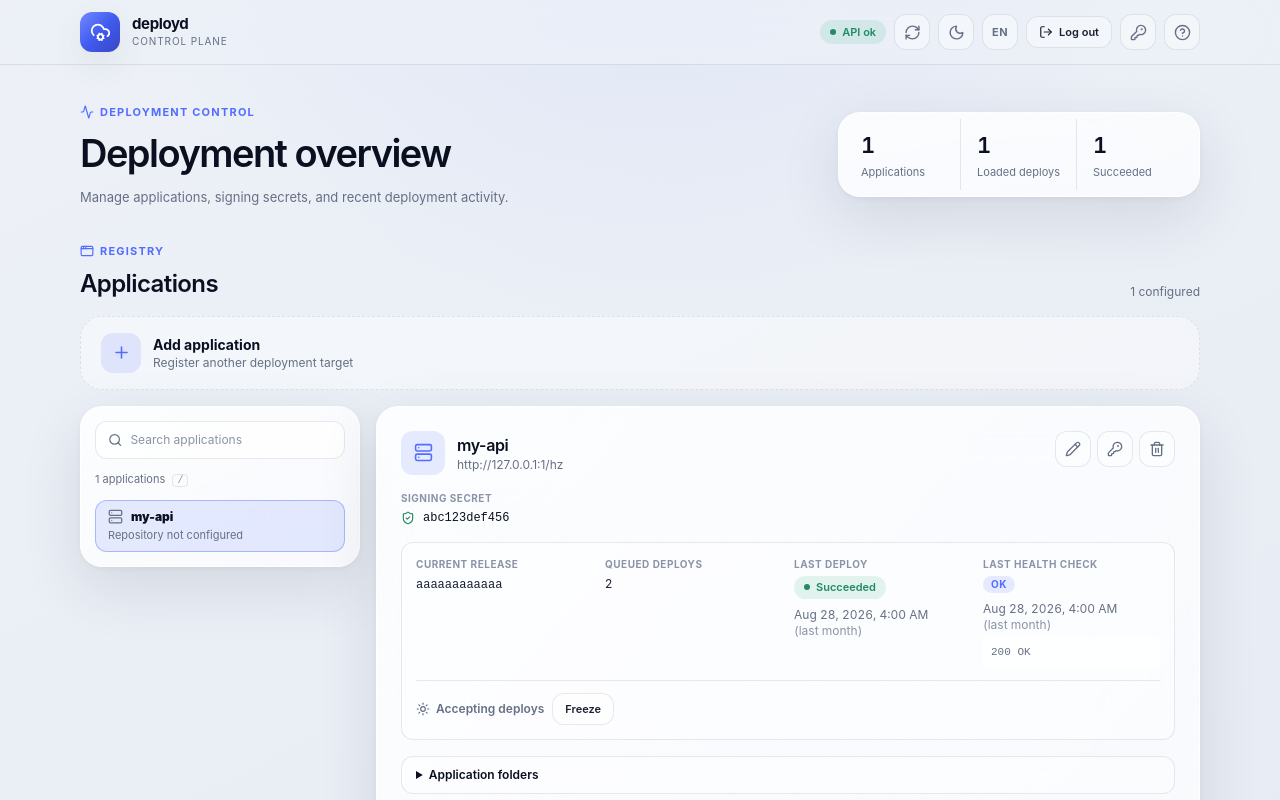
Scenario: App › shows the per-app status panel and freezes after confirmation
expect the text "aaaaaaaaaaaa" is shown: met, box x1=416 y1=578 x2=502 y2=592
expect the text "2" is shown: met, box x1=605 y1=576 x2=612 y2=591
Click the button "Freeze" at {"x": 583, "y": 709}, box x1=552 y1=693 x2=614 y2=725
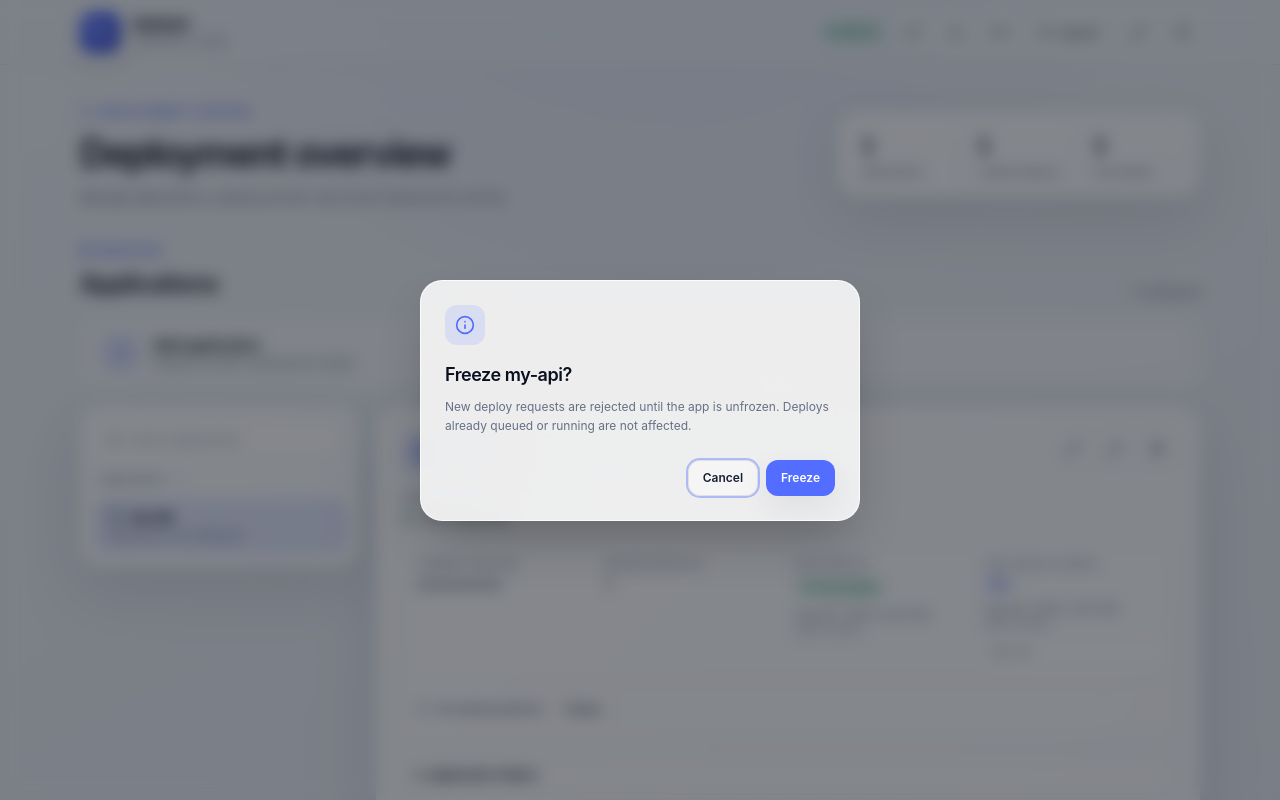
Click the button "Freeze" below "Freeze my-api?" at {"x": 801, "y": 478}, box x1=766 y1=460 x2=835 y2=496
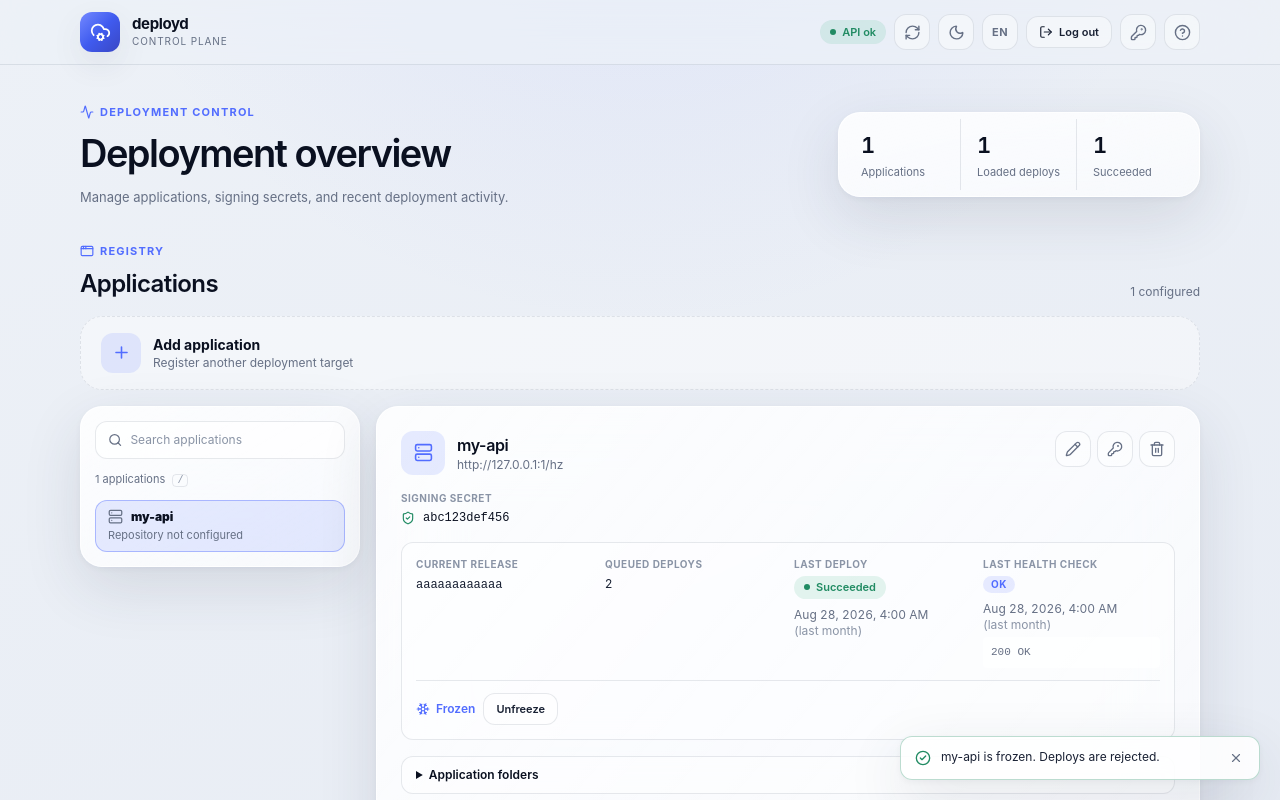
expect the button "Unfreeze" is shown: met, box x1=483 y1=693 x2=558 y2=725
expect the text "Frozen" is shown: met, box x1=416 y1=701 x2=475 y2=717
